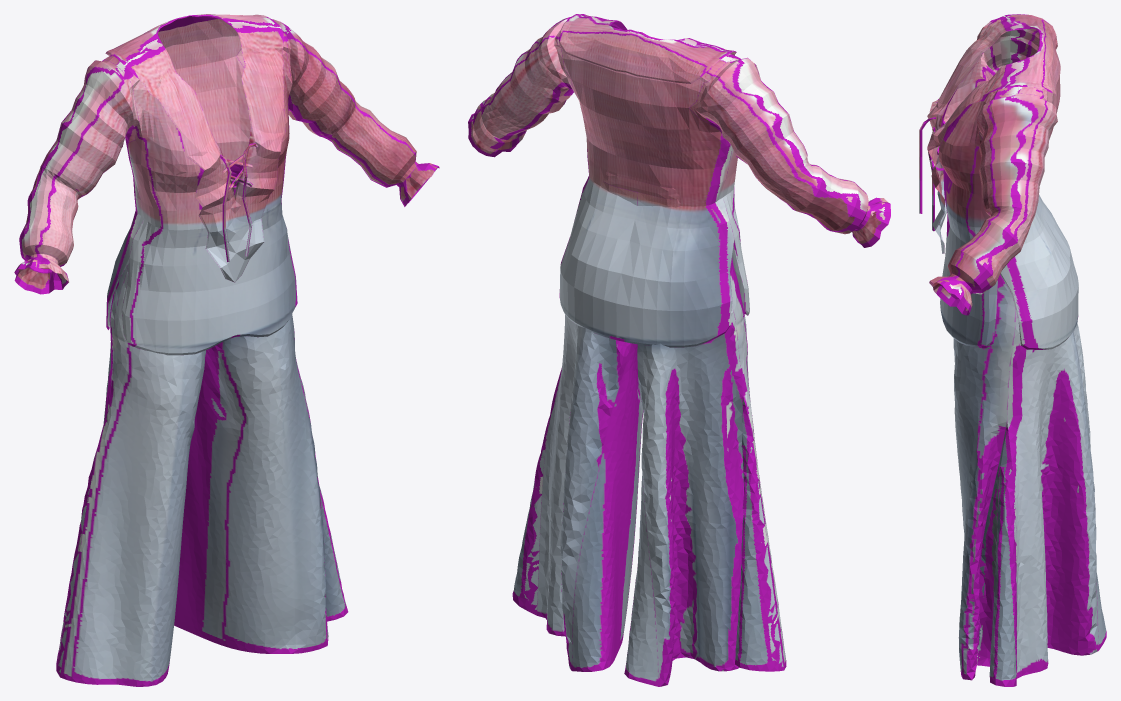
The picture shows the model from 3 angles, left to right: view 1: azimuth 30°, elevation 25°; view 2: azimuth 150°, elevation 25°; view 3: azimuth 270°, elevation 25°; orthographic projection. The views are drawn at different scales.
Bounding box in the file's own units: 0.7512 × 1.07 × 0.3036.
Materials: 1 (1 with a texture image).
